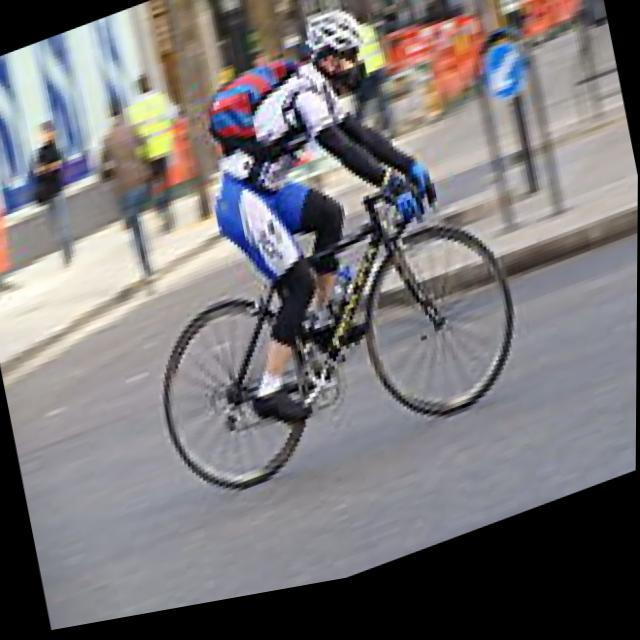Helmet: (295, 2, 379, 98)
